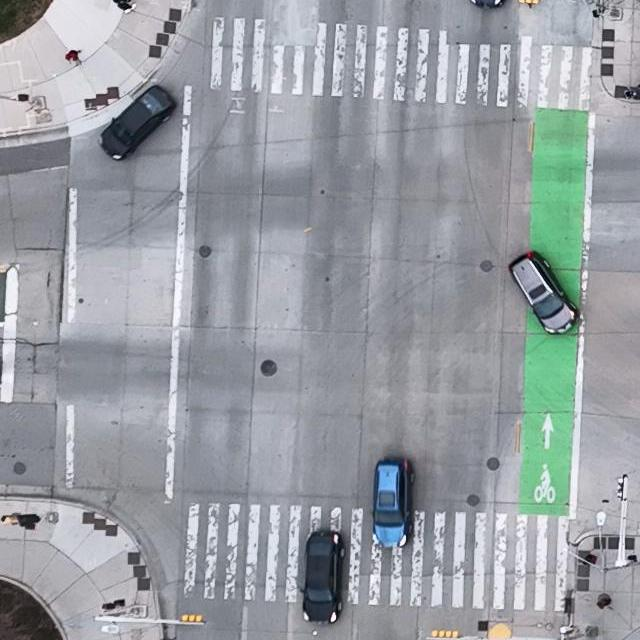car: (508, 251, 580, 336), (98, 86, 178, 162), (299, 528, 347, 622), (369, 457, 414, 548)
